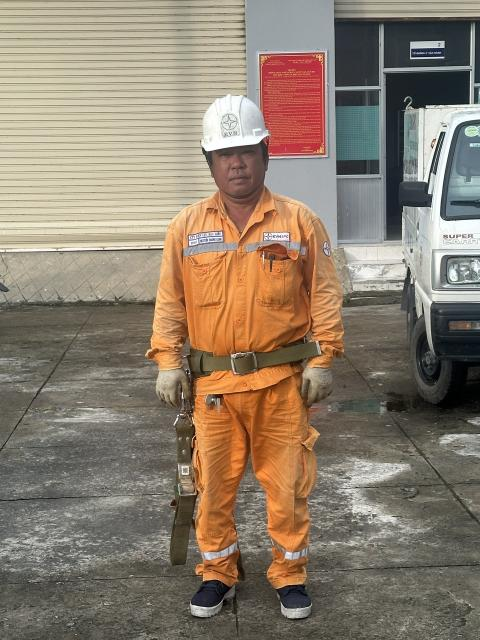gloves: (138, 354, 201, 422), (291, 358, 333, 415)
harness: (158, 336, 333, 387)
helmet: (194, 86, 282, 164)
shoes: (184, 565, 242, 618), (265, 578, 318, 622)
